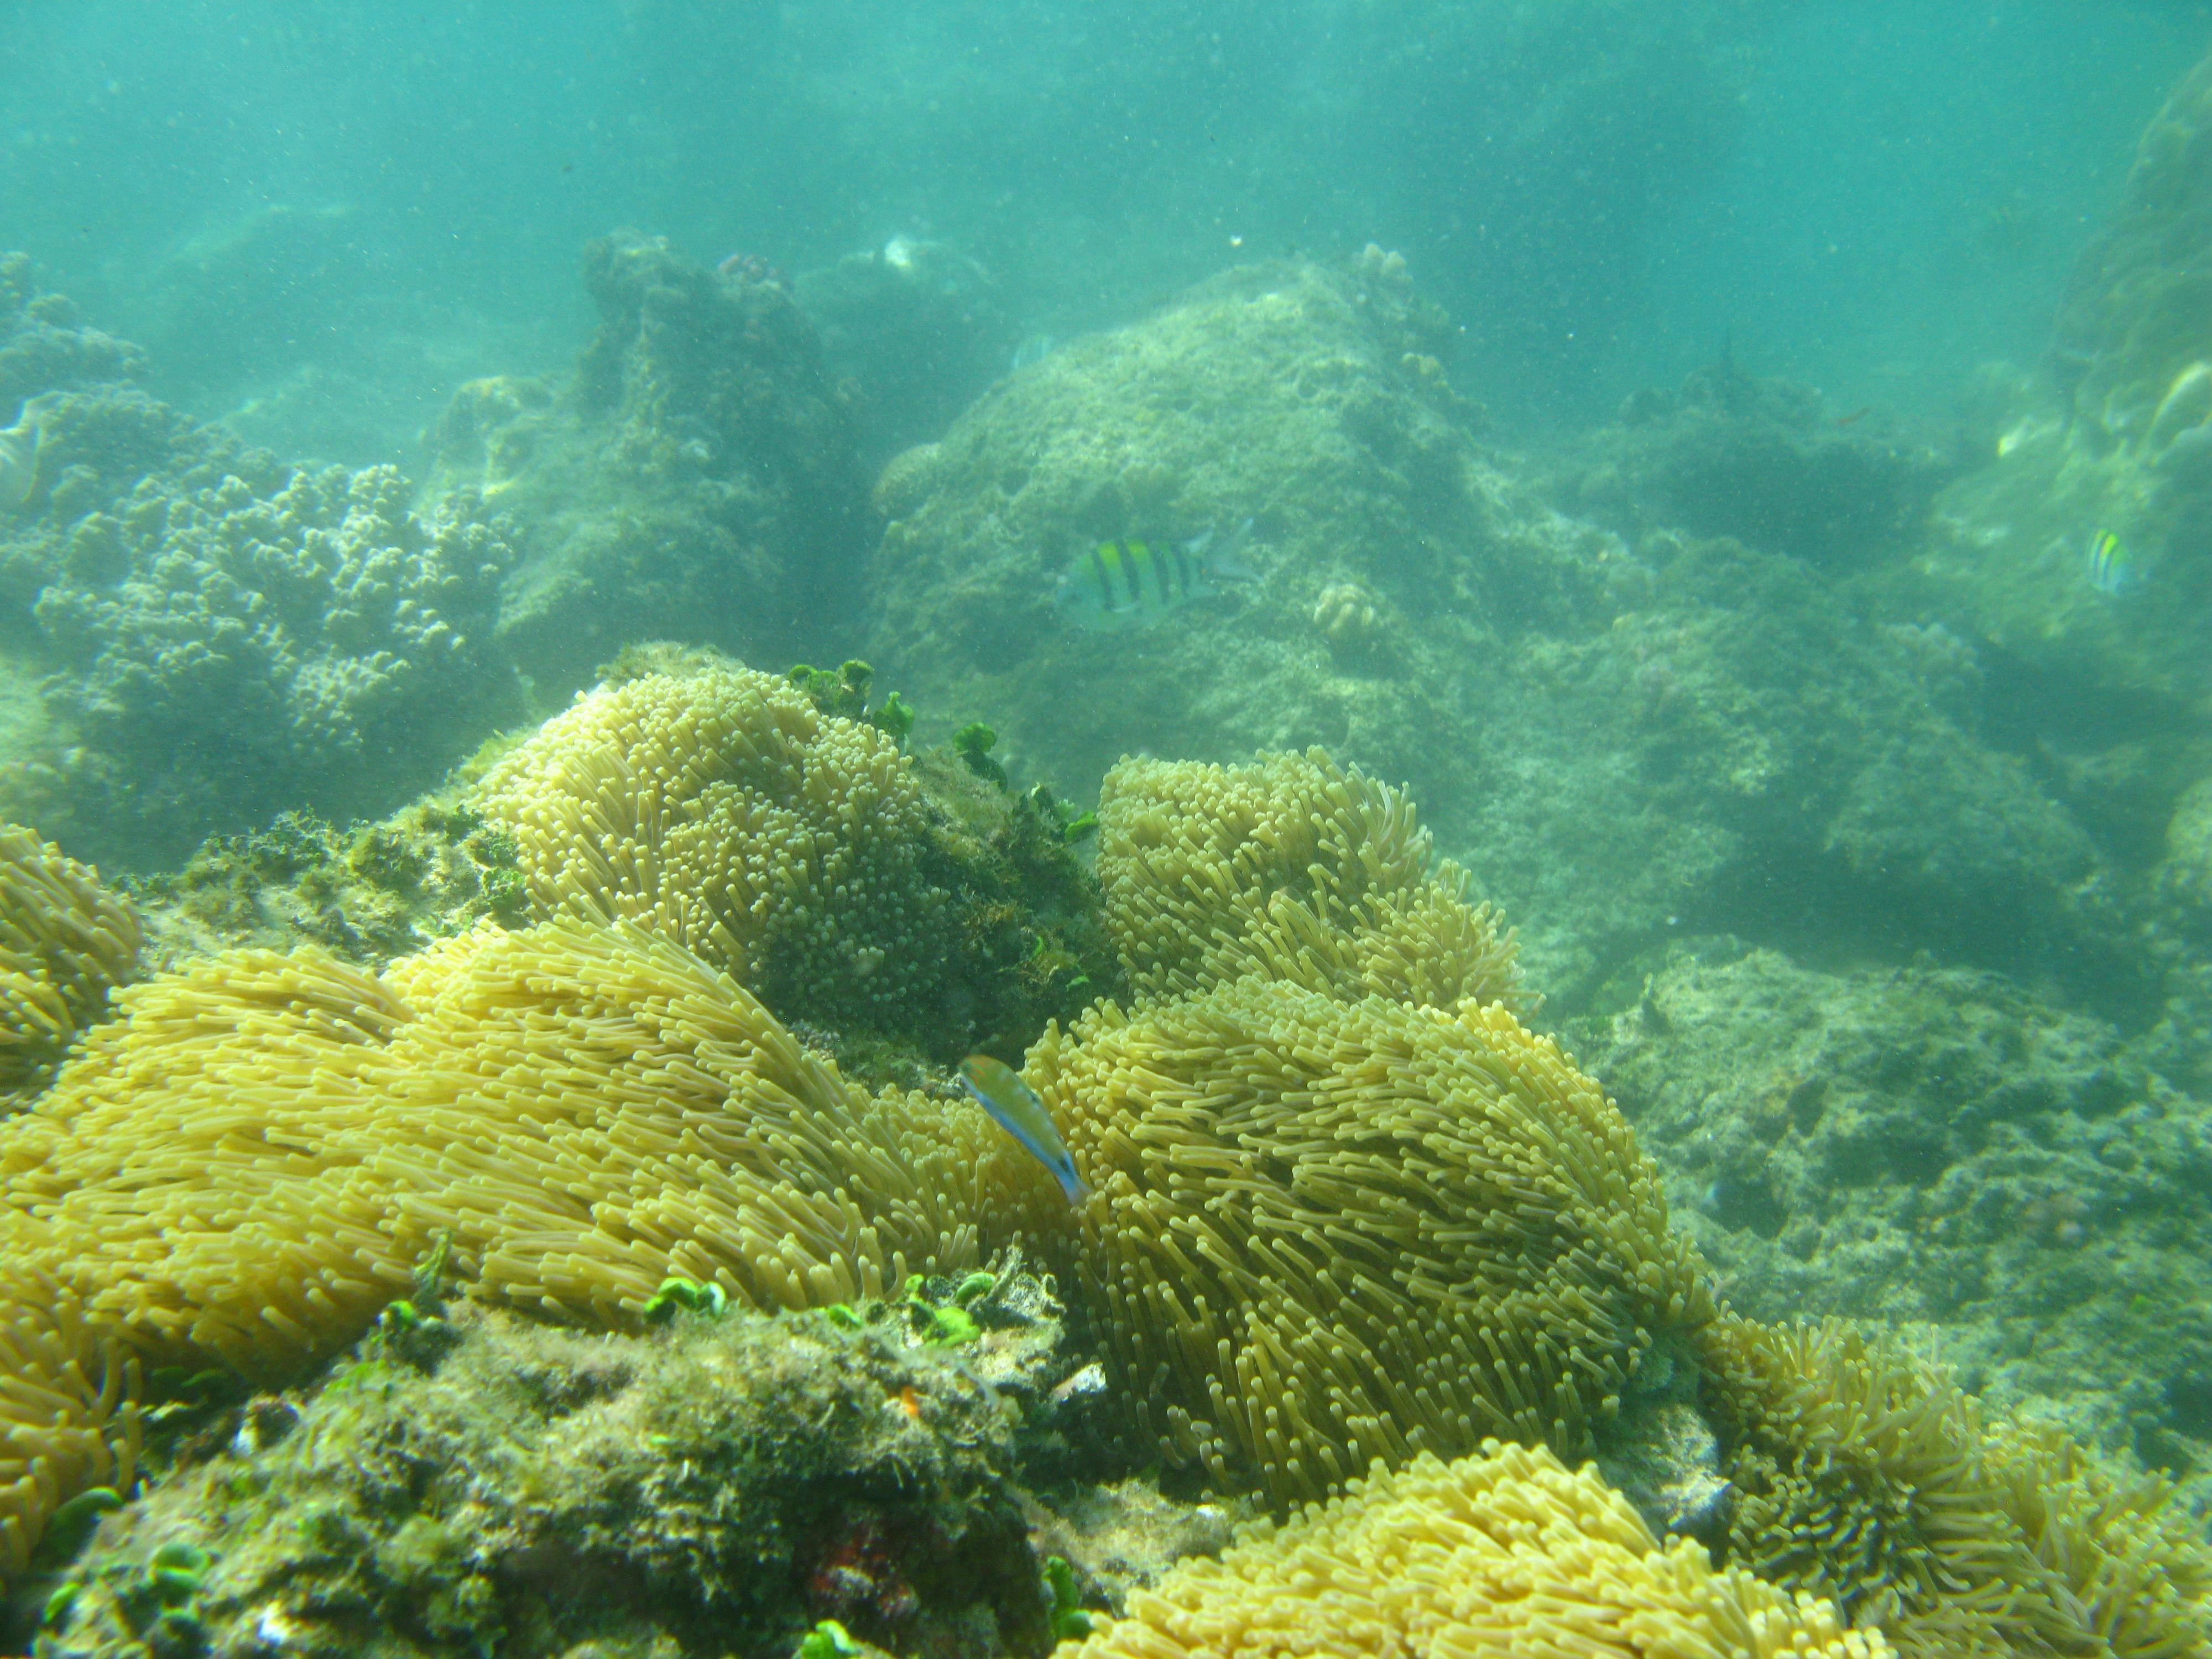Abudefduf vaigiensis: (1024, 471, 1264, 660), (2083, 512, 2148, 620)
